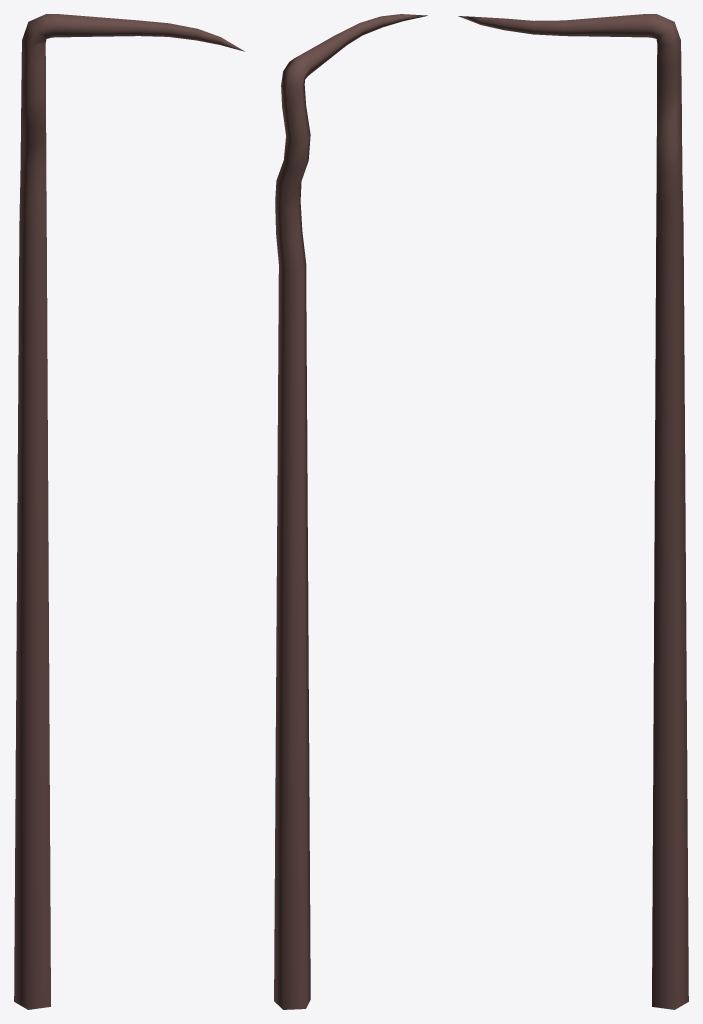
The model's file is root_hole_004.fbx.
3 views of the same model, side by side, from view 1: azimuth 90°, elevation 25°; view 2: azimuth 150°, elevation 25°; view 3: azimuth 270°, elevation 25° (orthographic). The views are drawn at different scales.
Parts seen in each view (by area): view 1: root.hole.004; view 2: root.hole.004; view 3: root.hole.004.
Boxes of the visible parts, box(x1,y1,x2,y2) form: root.hole.004: box(14, 14, 244, 1009); root.hole.004: box(274, 14, 427, 1009); root.hole.004: box(458, 14, 688, 1009).
Size of the model in its own units: 116 by 2038 by 433.
